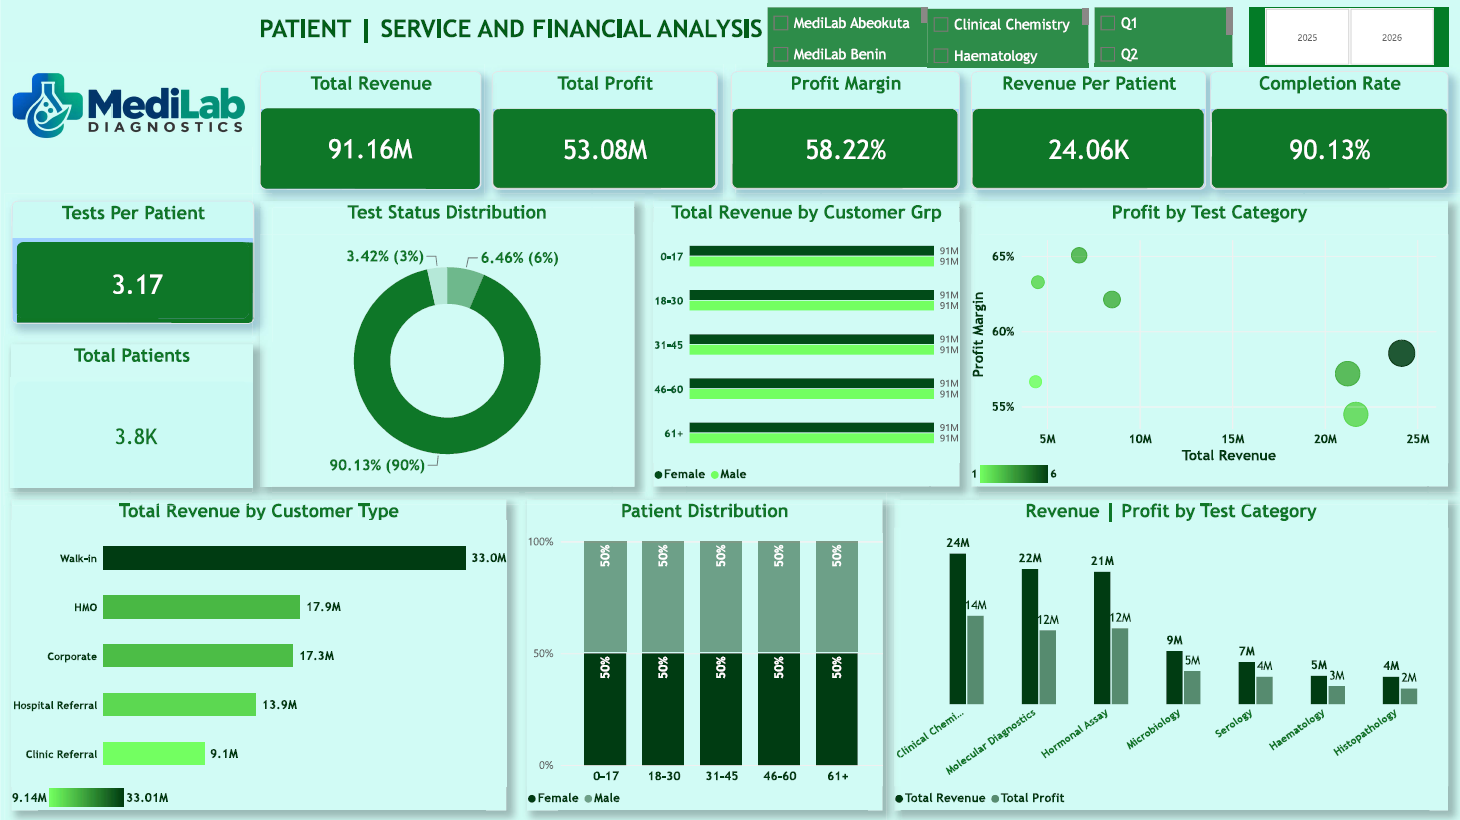

This screenshot's page, from the dashboard's own definition file:
{"tool":"powerbi","page":{"name":"Patient","canvas":[1920,1080],"ordinal":1},"visuals":[{"type":"cardVisual","title":"Total Profit","fields":{"Data":["Calculated Measures.Total Profit"]},"box":[645.2,94.3,295.4,155],"z":0},{"type":"cardVisual","title":"Total Revenue","fields":{"Data":["Calculated Measures.Total Revenue"]},"box":[341.5,94.3,289.1,155],"z":1000},{"type":"cardVisual","title":"Profit Margin","fields":{"Data":["Calculated Measures.Profit Margin"]},"box":[959.5,94.3,299.6,155],"z":2000},{"type":"cardVisual","title":"Revenue Per Patient","fields":{"Data":["Calculated Measures.Revenue Per Patient"]},"box":[1273.7,94.3,308,155],"z":3000},{"type":"cardVisual","title":"Tests Per Patient","fields":{"Data":["Calculated Measures.Tests Per Patient"]},"box":[14.7,264,318.4,161.3],"z":4000},{"type":"cardVisual","title":"Completion Rate","fields":{"Data":["Calculated Measures.Completion Rate"]},"box":[1588,94.3,312.1,155],"z":5000},{"type":"clusteredColumnChart","title":"Revenue | Profit by Test Category","fields":{"Category":["TestDim.Test_Category"],"Y":["Calculated Measures.Total Revenue","Calculated Measures.Total Profit"]},"box":[1173.2,655.7,726.9,408.5],"z":6000},{"type":"clusteredBarChart","title":"Total Revenue by Customer Type","fields":{"Category":["TrnsactionFact.Customer_Type"],"Y":["Calculated Measures.Total Revenue"]},"box":[14.7,655.7,649.4,408.5],"z":7000},{"type":"hundredPercentStackedColumnChart","title":"Patient Distribution","fields":{"Category":["PatientDim.Age_Group"],"Series":["PatientDim.Gender"],"Y":["Calculated Measures.Total Patients"]},"box":[691.3,655.7,467.2,408.5],"z":8000},{"type":"clusteredBarChart","title":"Total Revenue by Customer Grp","fields":{"Category":["PatientDim.Age_Group"],"Series":["PatientDim.Gender"],"Y":["Calculated Measures.Total Revenue"]},"box":[856.8,264,402.2,375],"z":9000},{"type":"donutChart","title":"Test Status Distribution","fields":{"Y":["Calculated Measures.Cancellation Rate","Calculated Measures.Completion Rate","Calculated Measures.Pending Rate"]},"box":[341.5,264,490.2,375],"z":10000},{"type":"image","box":[6.3,0,326.8,274.4],"z":11000},{"type":"scatterChart","title":"Profit by Test Category","fields":{"Category":["TestDim.Test_Category"],"Size":["Calculated Measures.Total Profit"],"X":["Calculated Measures.Total Revenue"],"Y":["Calculated Measures.Profit Margin"]},"box":[1273.7,264,626.4,375],"z":12000},{"type":"textbox","box":[100.6,100.6,299.6,71.2],"z":13000},{"type":"textbox","box":[340.4,18.6,682.8,57.8],"z":14000},{"type":"cardVisual","title":"Total Patients","fields":{"Data":["Calculated Measures.Total Patients"]},"box":[14.4,451.8,317.7,187.7],"z":15000},{"type":"slicer","fields":{"Values":["BranchDim.Branch_Name"]},"box":[1006.7,10.3,210.4,76.3],"z":16000},{"type":"slicer","fields":{"Values":["TestDim.Test_Category"]},"box":[1217.1,12.4,210.4,76.3],"z":17000},{"type":"slicer","fields":{"Values":["CalendarDim.Quarter"]},"box":[1435.8,10.3,181.5,76.3],"z":18000},{"type":"slicer","fields":{"Values":["CalendarDim.Year"]},"box":[1640,10.3,259.9,76.3],"z":19000}]}

Visuals, with their boxes in screenshot pixels (x1, y1, x2, y2), scaled from the page's 1920x1080 canvas onto the 1460x820 screenshot:
"Total Profit" cardVisual: 491 72 715 189
"Total Revenue" cardVisual: 260 72 480 189
"Profit Margin" cardVisual: 730 72 957 189
"Revenue Per Patient" cardVisual: 969 72 1203 189
"Tests Per Patient" cardVisual: 11 200 253 323
"Completion Rate" cardVisual: 1208 72 1445 189
"Revenue | Profit by Test Category" clusteredColumnChart: 892 498 1445 808
"Total Revenue by Customer Type" clusteredBarChart: 11 498 505 808
"Patient Distribution" hundredPercentStackedColumnChart: 526 498 881 808
"Total Revenue by Customer Grp" clusteredBarChart: 652 200 957 485
"Test Status Distribution" donutChart: 260 200 632 485
image: 5 0 253 208
"Profit by Test Category" scatterChart: 969 200 1445 485
textbox: 76 76 304 130
textbox: 259 14 778 58
"Total Patients" cardVisual: 11 343 253 486
slicer - BranchDim.Branch_Name: 766 8 926 66
slicer - TestDim.Test_Category: 926 9 1085 67
slicer - CalendarDim.Quarter: 1092 8 1230 66
slicer - CalendarDim.Year: 1247 8 1445 66
